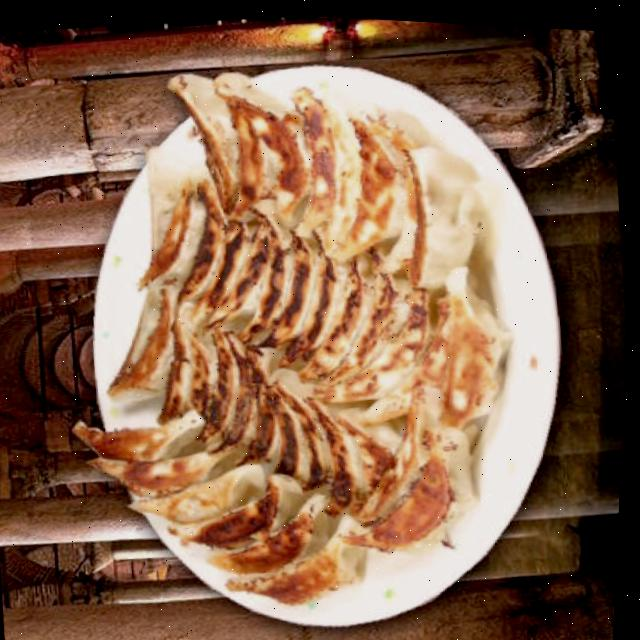带馅早点: (33, 30, 567, 640)
